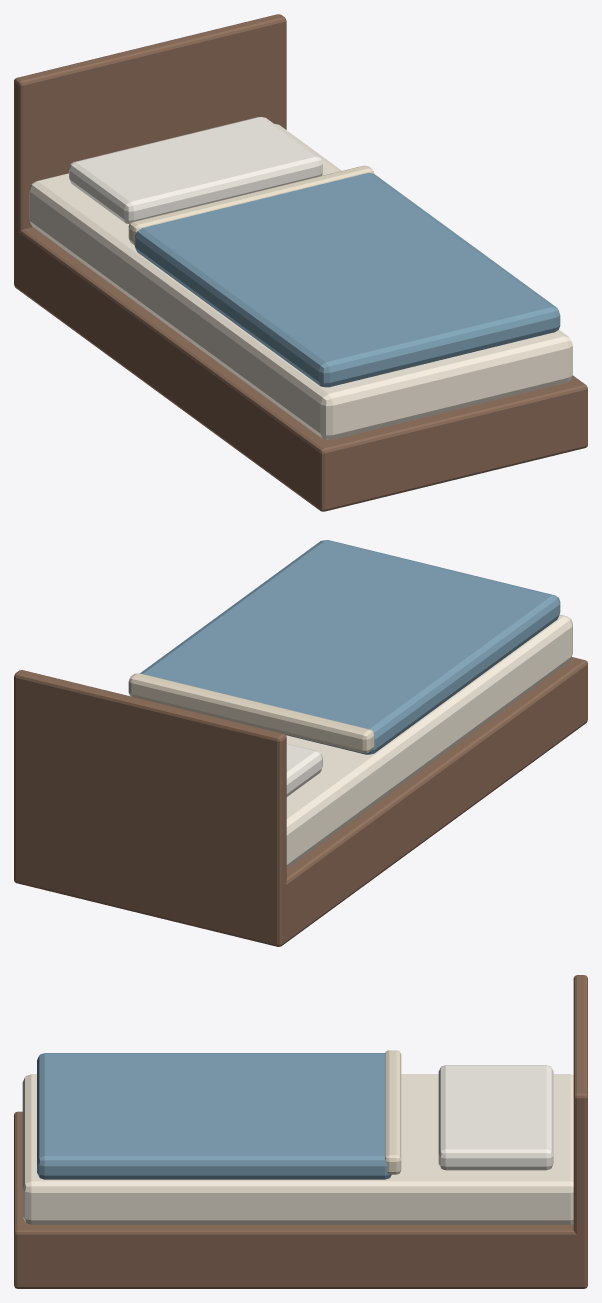
The model's file is hh_bed_single.glb.
3 views of the same model, one above another, from view 1: azimuth 30°, elevation 25°; view 2: azimuth 150°, elevation 25°; view 3: azimuth 270°, elevation 25° (orthographic). The views are drawn at different scales.
Visible parts, largest first — view 1: duvet, frame, mattress, headboard, pillow, fold; view 2: headboard, duvet, frame, mattress, fold, pillow; view 3: duvet, frame, mattress, pillow, headboard, fold.
Boxes of the visible parts, x1=… form: duvet: x1=134, y1=173, x2=560, y2=387; frame: x1=14, y1=227, x2=587, y2=511; mattress: x1=29, y1=124, x2=572, y2=439; headboard: x1=14, y1=14, x2=286, y2=289; pillow: x1=69, y1=117, x2=322, y2=223; fold: x1=128, y1=165, x2=373, y2=244; headboard: x1=14, y1=670, x2=286, y2=944; duvet: x1=140, y1=540, x2=560, y2=754; frame: x1=14, y1=657, x2=587, y2=946; mattress: x1=286, y1=614, x2=572, y2=868; fold: x1=128, y1=673, x2=374, y2=753; pillow: x1=286, y1=743, x2=322, y2=796; duvet: x1=37, y1=1053, x2=391, y2=1179; frame: x1=14, y1=1111, x2=587, y2=1288; mattress: x1=22, y1=1074, x2=573, y2=1224; pillow: x1=438, y1=1065, x2=553, y2=1170; headboard: x1=573, y1=975, x2=587, y2=1288; fold: x1=385, y1=1050, x2=401, y2=1174.
Bounding box in the file's own units: 1 × 0.75 × 2.
